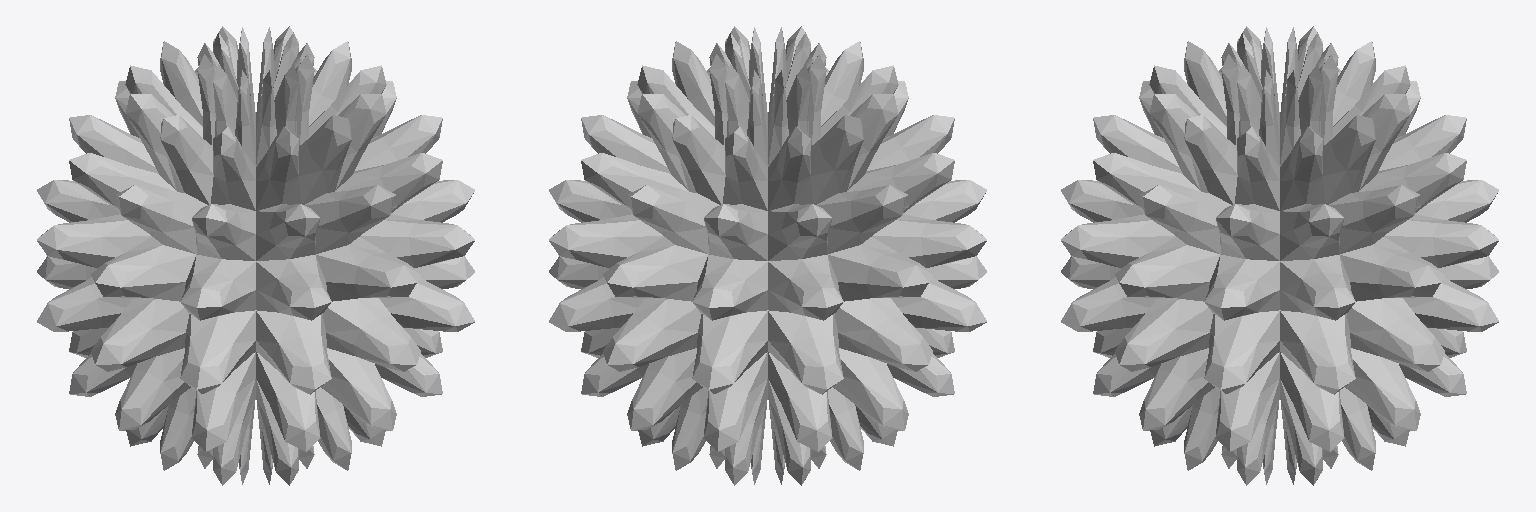
Rendered from sea-urchine.obj.
3 views of the same model, side by side, from view 1: azimuth 30°, elevation 25°; view 2: azimuth 150°, elevation 25°; view 3: azimuth 270°, elevation 25° (orthographic).
Visible parts, largest first — view 1: mesh01; view 2: mesh01; view 3: mesh01.
Boxes of the visible parts, box(x1,y1,x2,y2) form: mesh01: box(37, 26, 474, 485); mesh01: box(549, 26, 986, 485); mesh01: box(1061, 26, 1498, 485).
Size of the model in its own units: 7.91 by 8.27 by 7.91.